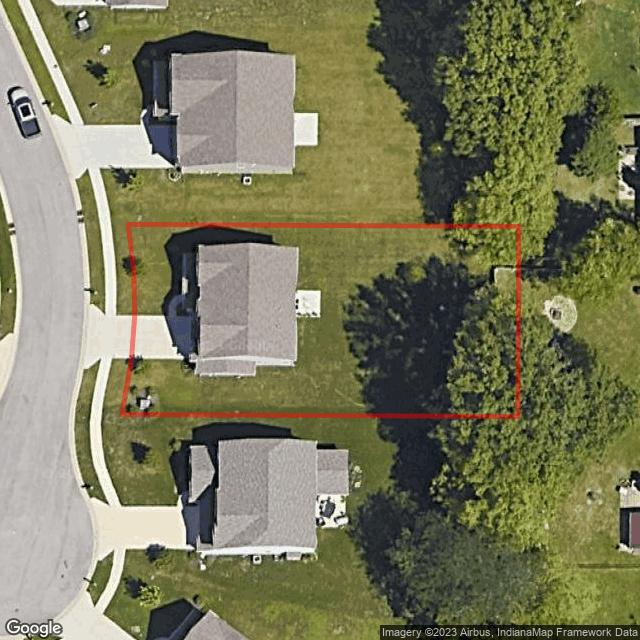Extra Driveway: (85, 302, 133, 368)
Extra Lawn: (111, 222, 132, 316), (85, 221, 105, 313), (101, 358, 128, 416), (75, 358, 101, 415)
Extra Sidewalk: (100, 221, 117, 316), (91, 358, 113, 416)
House: (195, 242, 299, 376)
Other: (135, 316, 199, 360), (296, 290, 321, 317), (138, 395, 155, 411)
Sidewalk: (168, 253, 197, 317)
